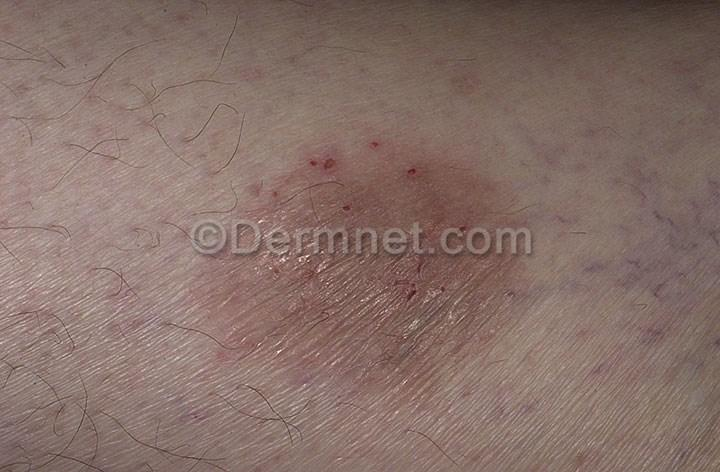Eczema: (158, 100, 526, 407)
